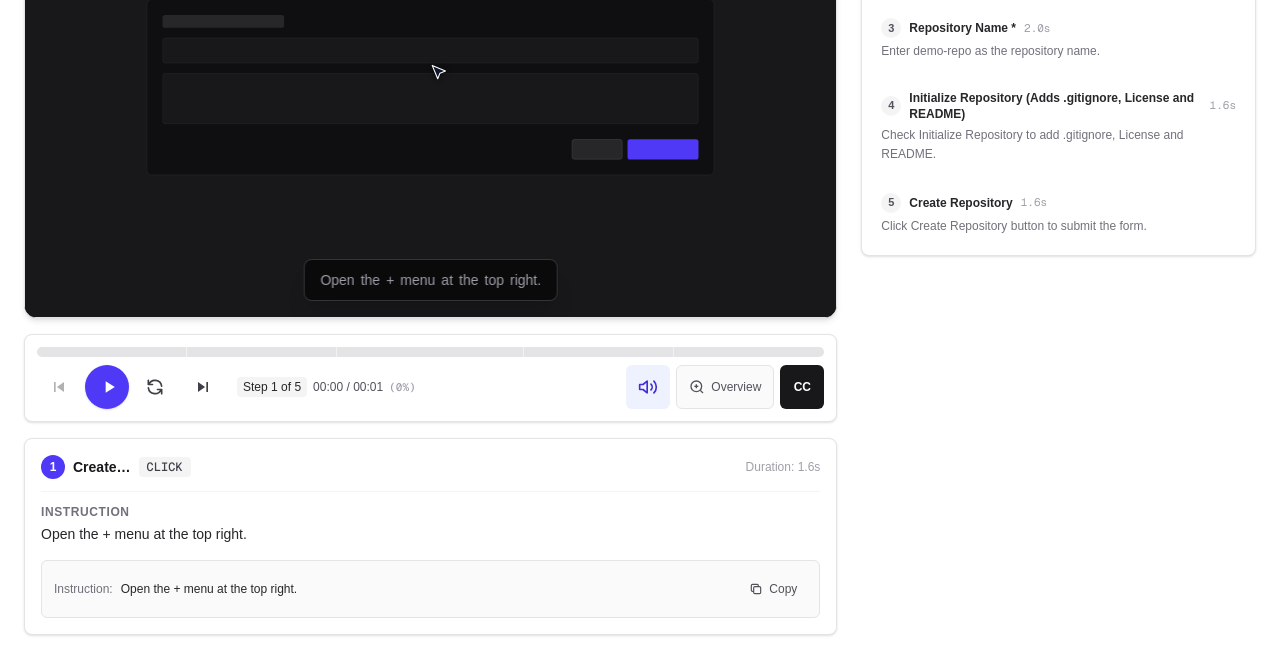
Scenario: TutorialPlayer & Accessibility Suite › advances to next step and returns to previous step
The width and height of the screenshot is (1280, 658).
(page scrolled)
Expected: the text "Step 1 of 5" is shown, [237,377,307,397]
// Advance to Step 2
Click the button with test id "control-next-step".
click(203, 387)  # box [181,365,225,409]
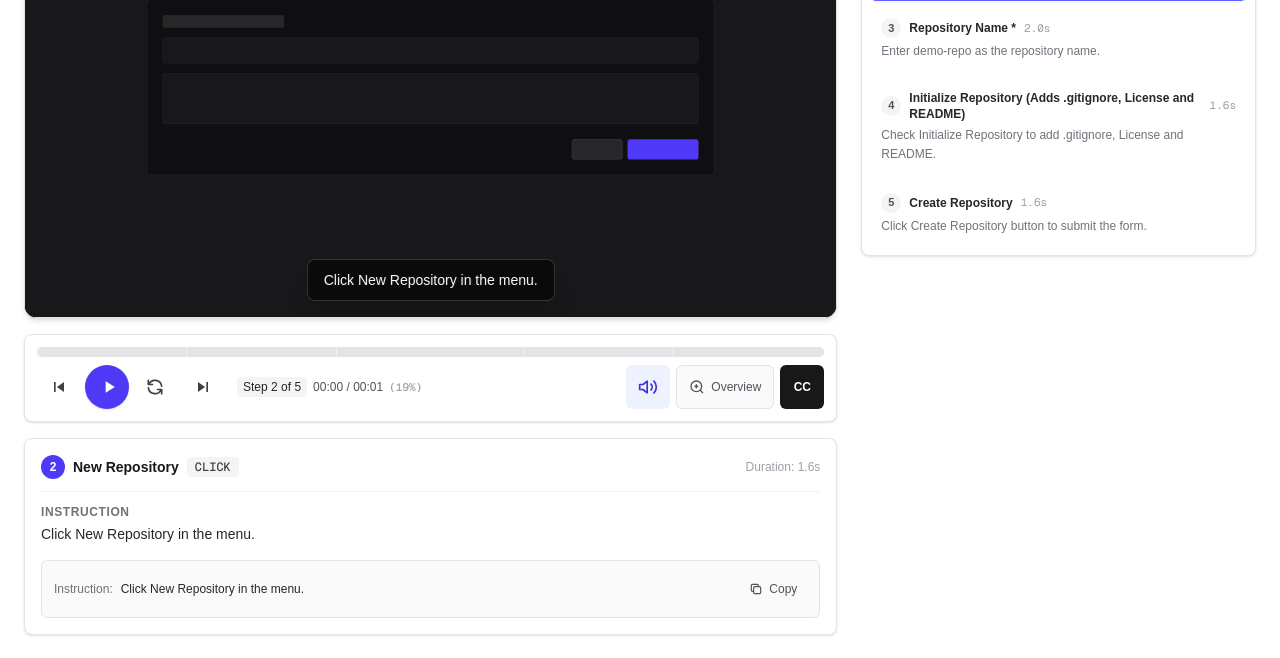
Now the text "Step 2 of 5" is shown, box [237,377,307,397]
Now the text with test id "instruction-text" reads "Click New Repository in the menu.", box [41,526,255,542]
// Advance to Step 3
Click the button with test id "control-next-step".
click(203, 387)  # box [181,365,225,409]
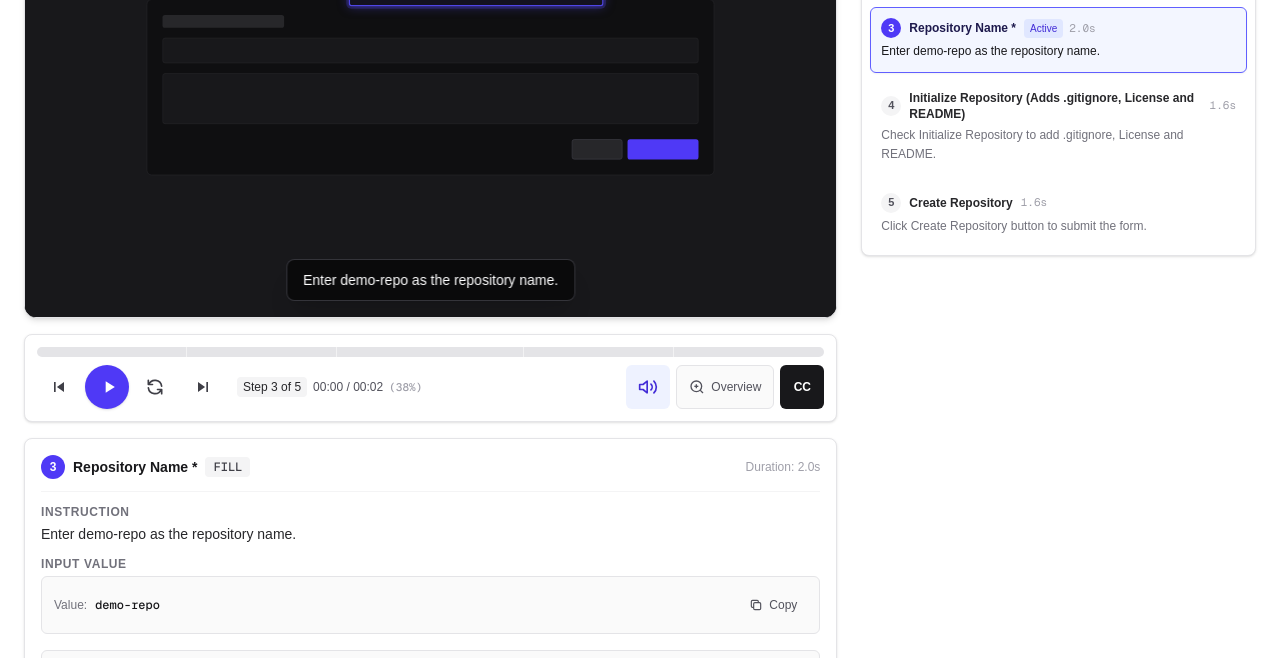
Now the text "Step 3 of 5" is shown, box [237,377,307,397]
Now the text with test id "instruction-text" reads "Enter demo-repo as the repository name.", box [41,526,296,542]
// Return to Step 2
Click the button with test id "control-prev-step".
click(59, 387)  # box [37,365,81,409]
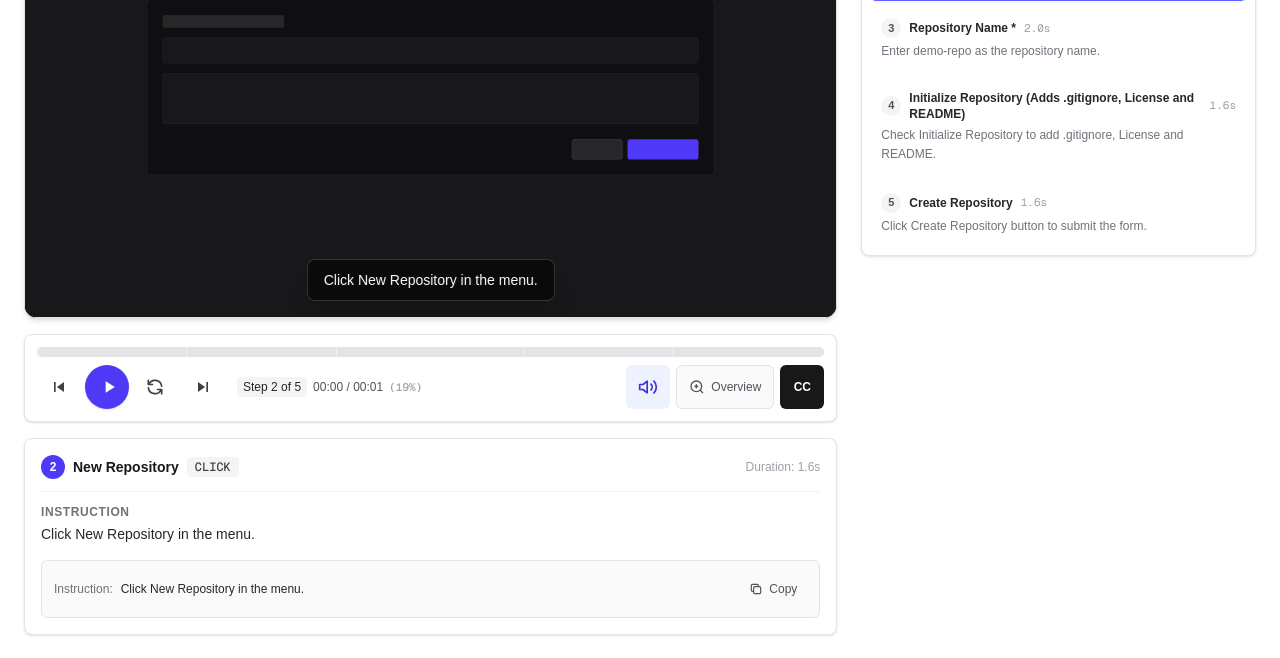
Now the text "Step 2 of 5" is shown, box [237,377,307,397]
